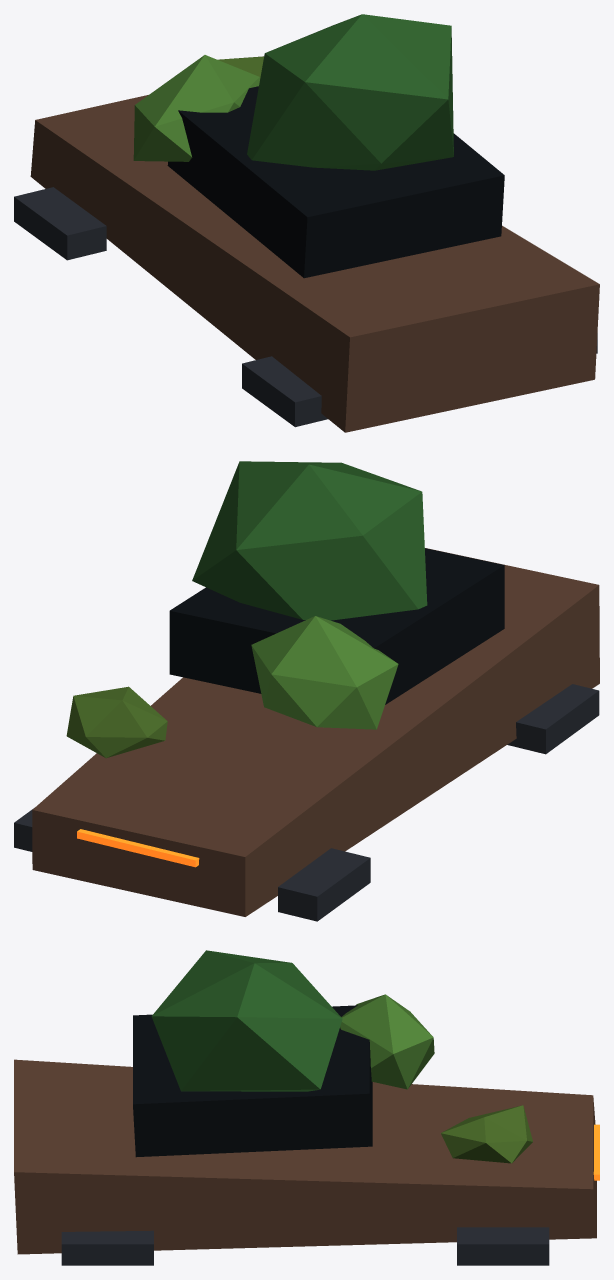
The model's file is wreck.glb.
The picture shows the model from 3 angles, top to bottom: view 1: azimuth 30°, elevation 25°; view 2: azimuth 150°, elevation 25°; view 3: azimuth 270°, elevation 25°; orthographic projection. The views are drawn at different scales.
Visible parts, largest first — view 1: Wreck; view 2: Wreck; view 3: Wreck.
Boxes of the visible parts, box(x1,y1,x2,y2) form: Wreck: box(14, 14, 599, 432); Wreck: box(14, 461, 599, 921); Wreck: box(14, 950, 599, 1265).
Size of the model in its own units: 2.3 by 2.1 by 4.45.
